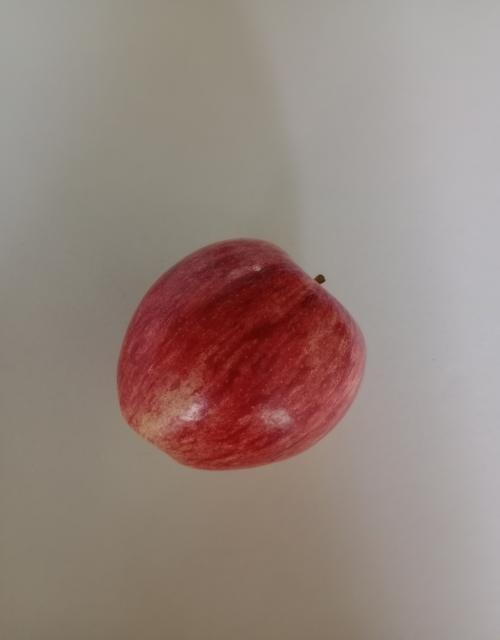Manzana: (93, 204, 395, 551)
